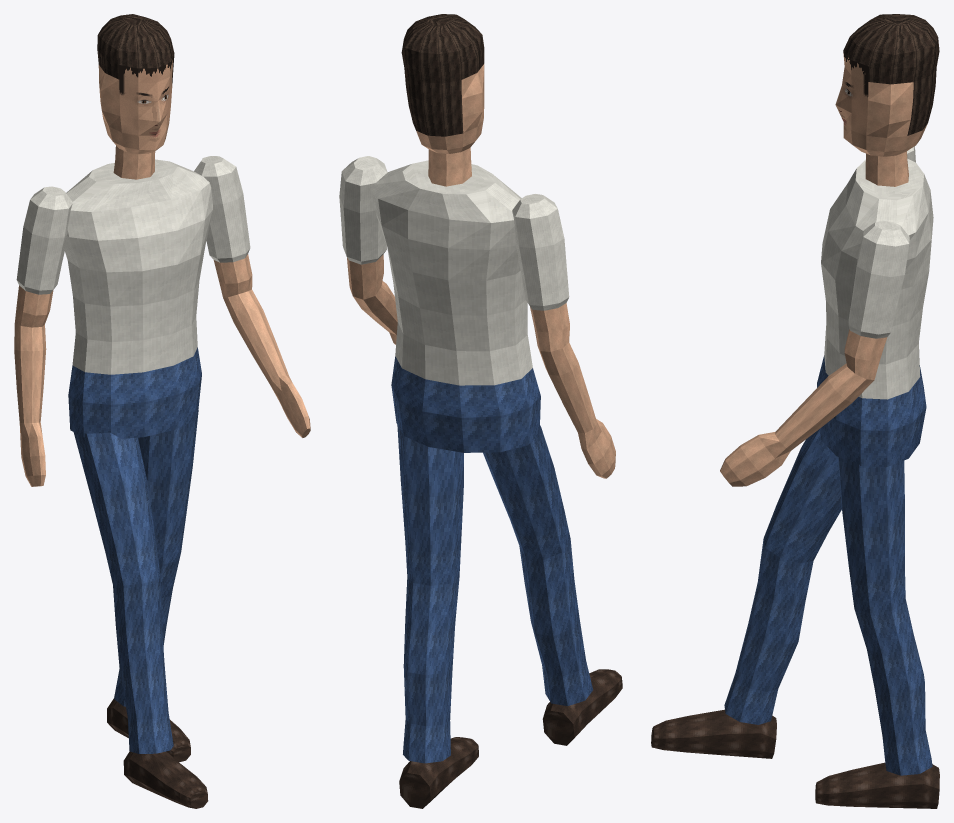
File: walk_12.obj
3 renders of one model, left to right at view 1: azimuth 30°, elevation 25°; view 2: azimuth 150°, elevation 25°; view 3: azimuth 270°, elevation 25°, orthographic. The views are drawn at different scales.
Bounding box in the file's own units: 0.6269 × 1.85 × 0.6176.
25 materials, 25 textured.
